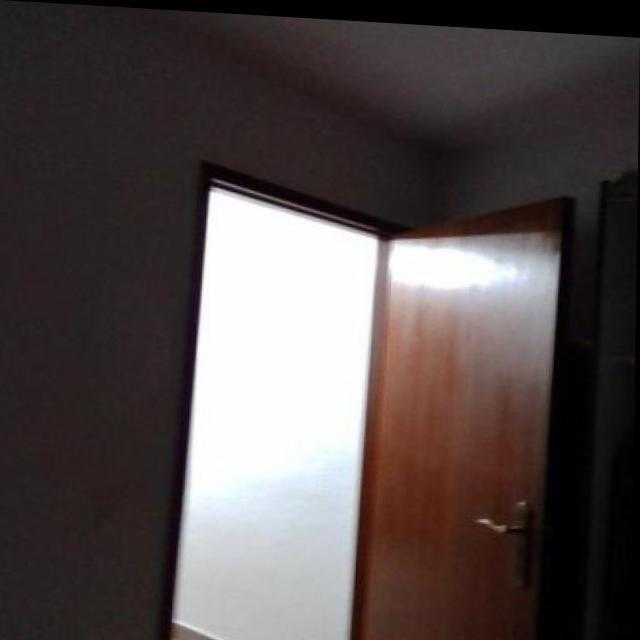door_handle: (461, 505, 534, 541)
